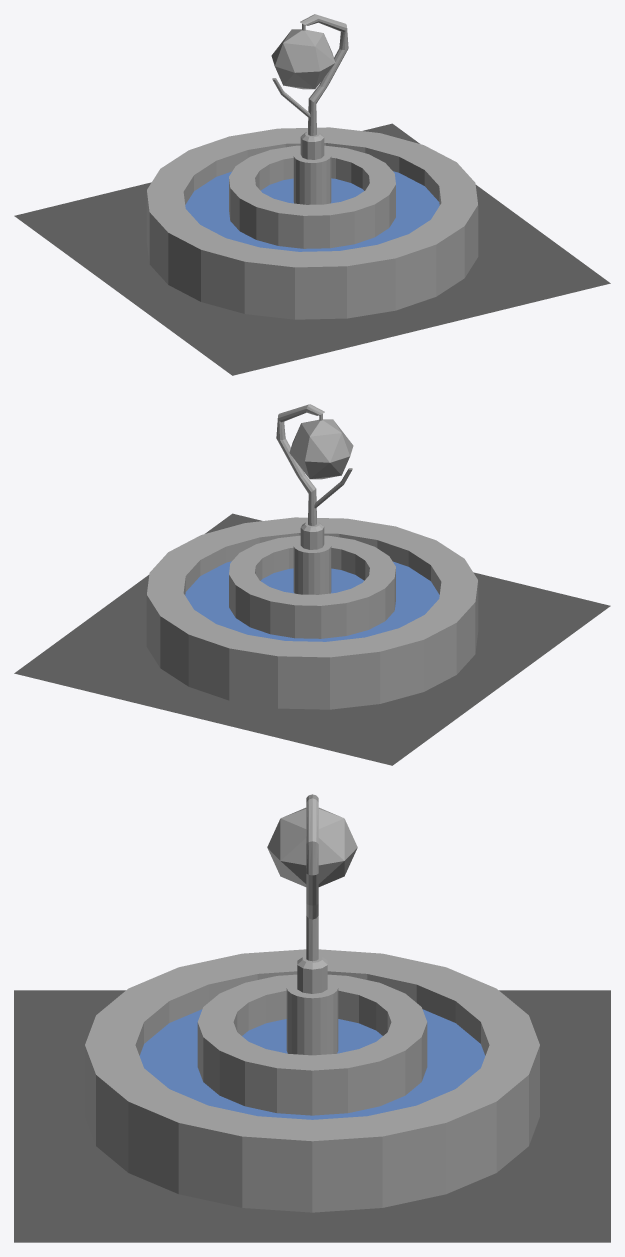
The model's file is fountain.fbx.
The picture shows the model from 3 angles, top to bottom: view 1: azimuth 30°, elevation 25°; view 2: azimuth 150°, elevation 25°; view 3: azimuth 270°, elevation 25°; orthographic projection. The views are drawn at different scales.
Parts seen in each view (by area): view 1: Cylinder_3; view 2: Cylinder_3; view 3: Cylinder_3.
Boxes of the visible parts, box(x1,y1,x2,y2) form: Cylinder_3: box(14, 14, 610, 375); Cylinder_3: box(14, 404, 610, 765); Cylinder_3: box(14, 794, 610, 1242).
Size of the model in its own units: 400 by 246 by 400.
